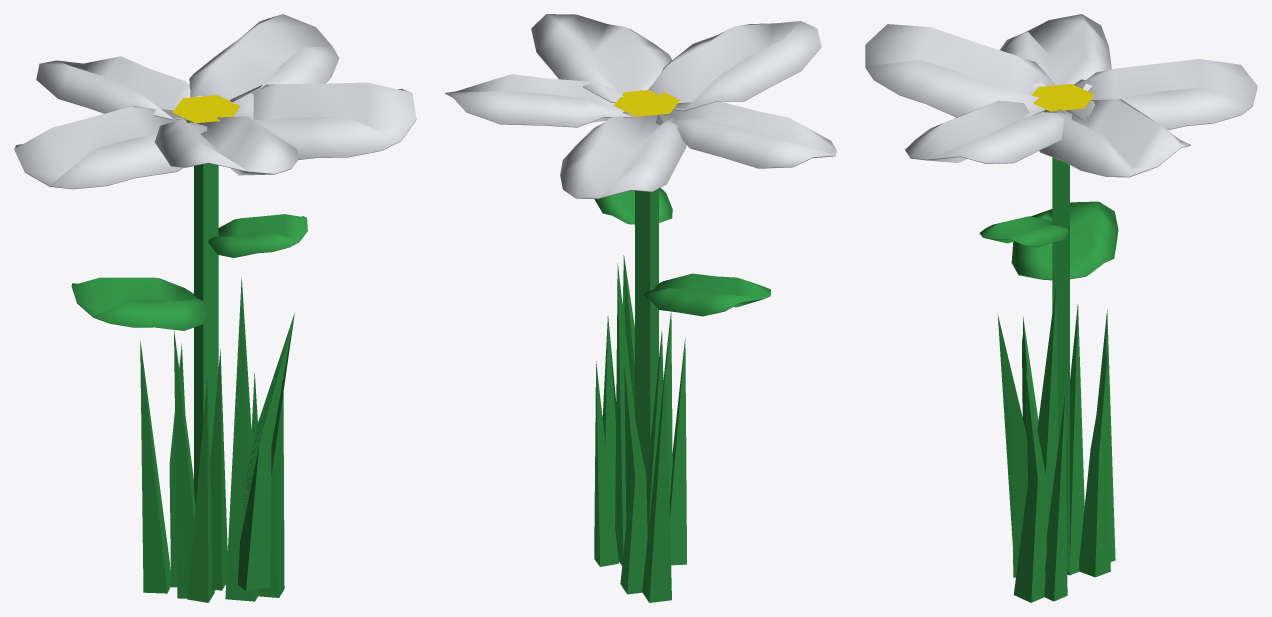
The model's file is Flower1.fbx.
3 renders of one model, left to right at view 1: azimuth 30°, elevation 25°; view 2: azimuth 150°, elevation 25°; view 3: azimuth 270°, elevation 25°, orthographic. The views are drawn at different scales.
Parts seen in each view (by area): view 1: Flower1; view 2: Flower1; view 3: Flower1.
Boxes of the visible parts, x1=… form: Flower1: x1=14, y1=14, x2=416, y2=602; Flower1: x1=445, y1=14, x2=836, y2=602; Flower1: x1=865, y1=14, x2=1257, y2=602.
Size of the model in its own units: 250 by 358 by 249.
